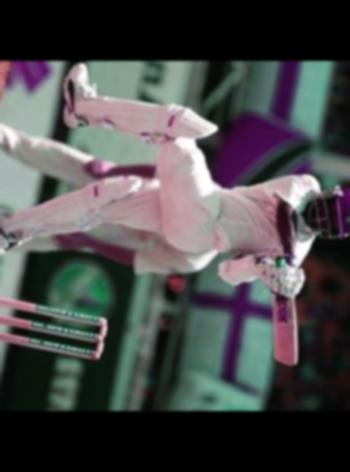batsman: (0, 61, 350, 327)
